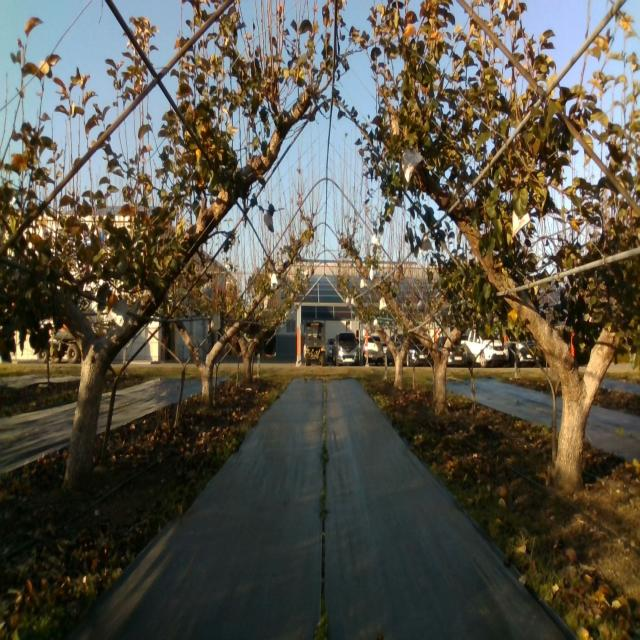pearbags: (400, 149, 422, 184), (106, 300, 128, 326), (512, 210, 530, 237), (264, 212, 274, 233)
